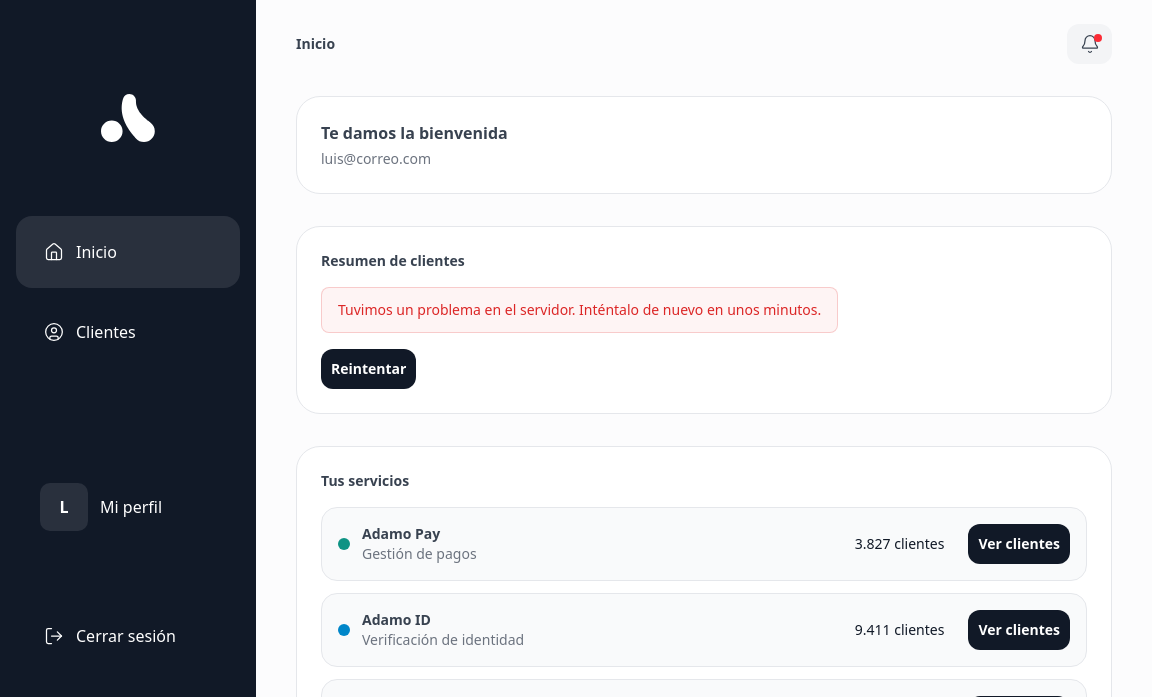
Test case: HomePage › carga y errores › "Reintentar" vuelve a pedir el resumen y lo muestra cuando el servidor ya responde
Expected: the heading "Inicio" is shown, [296,34,335,54]
Click the button "Reintentar" at (369, 369), box [321,349,416,389]
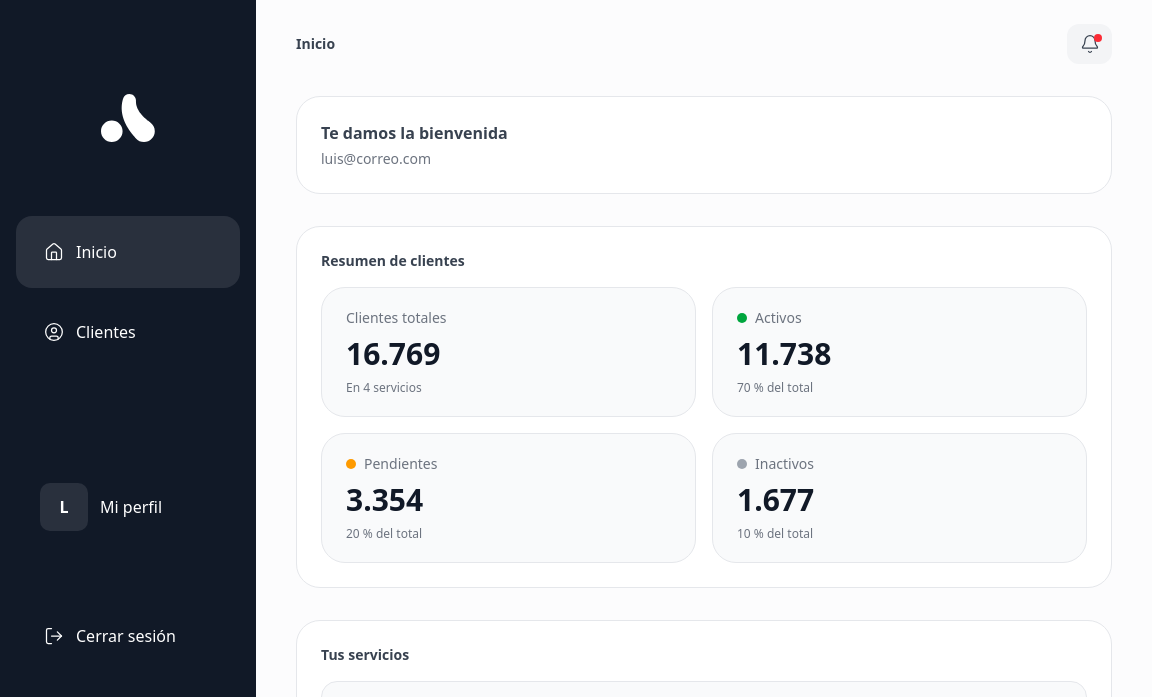
Now the element "Clientes totales" is shown, box [321,287,696,417]
